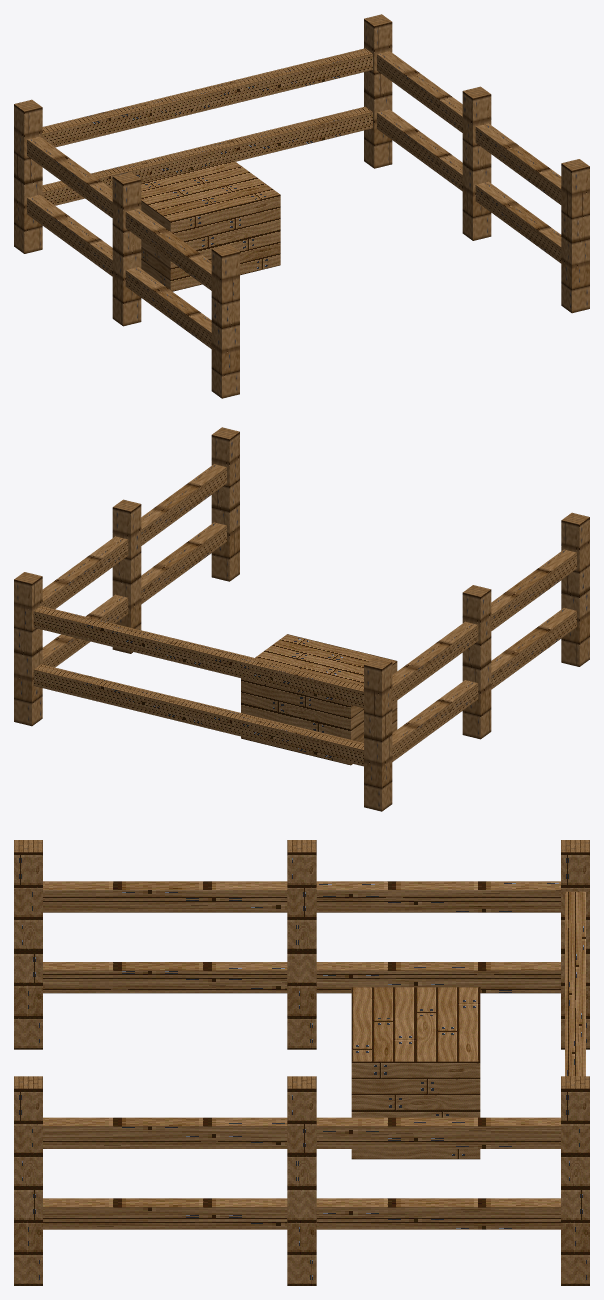
Rendered from redil.glb.
3 renders of one model, top to bottom at view 1: azimuth 30°, elevation 25°; view 2: azimuth 150°, elevation 25°; view 3: azimuth 270°, elevation 25°, orthographic. The views are drawn at different scales.
Parts seen in each view (by area): view 1: redil; view 2: redil; view 3: redil.
Part boxes in pixels (left/top/right/bottom): redil: left=14, top=14, right=589, bottom=398; redil: left=14, top=427, right=589, bottom=811; redil: left=14, top=840, right=589, bottom=1285.
Bounding box in the file's own units: 2.84 × 1.05 × 2.78.
1 material, 1 textured.
